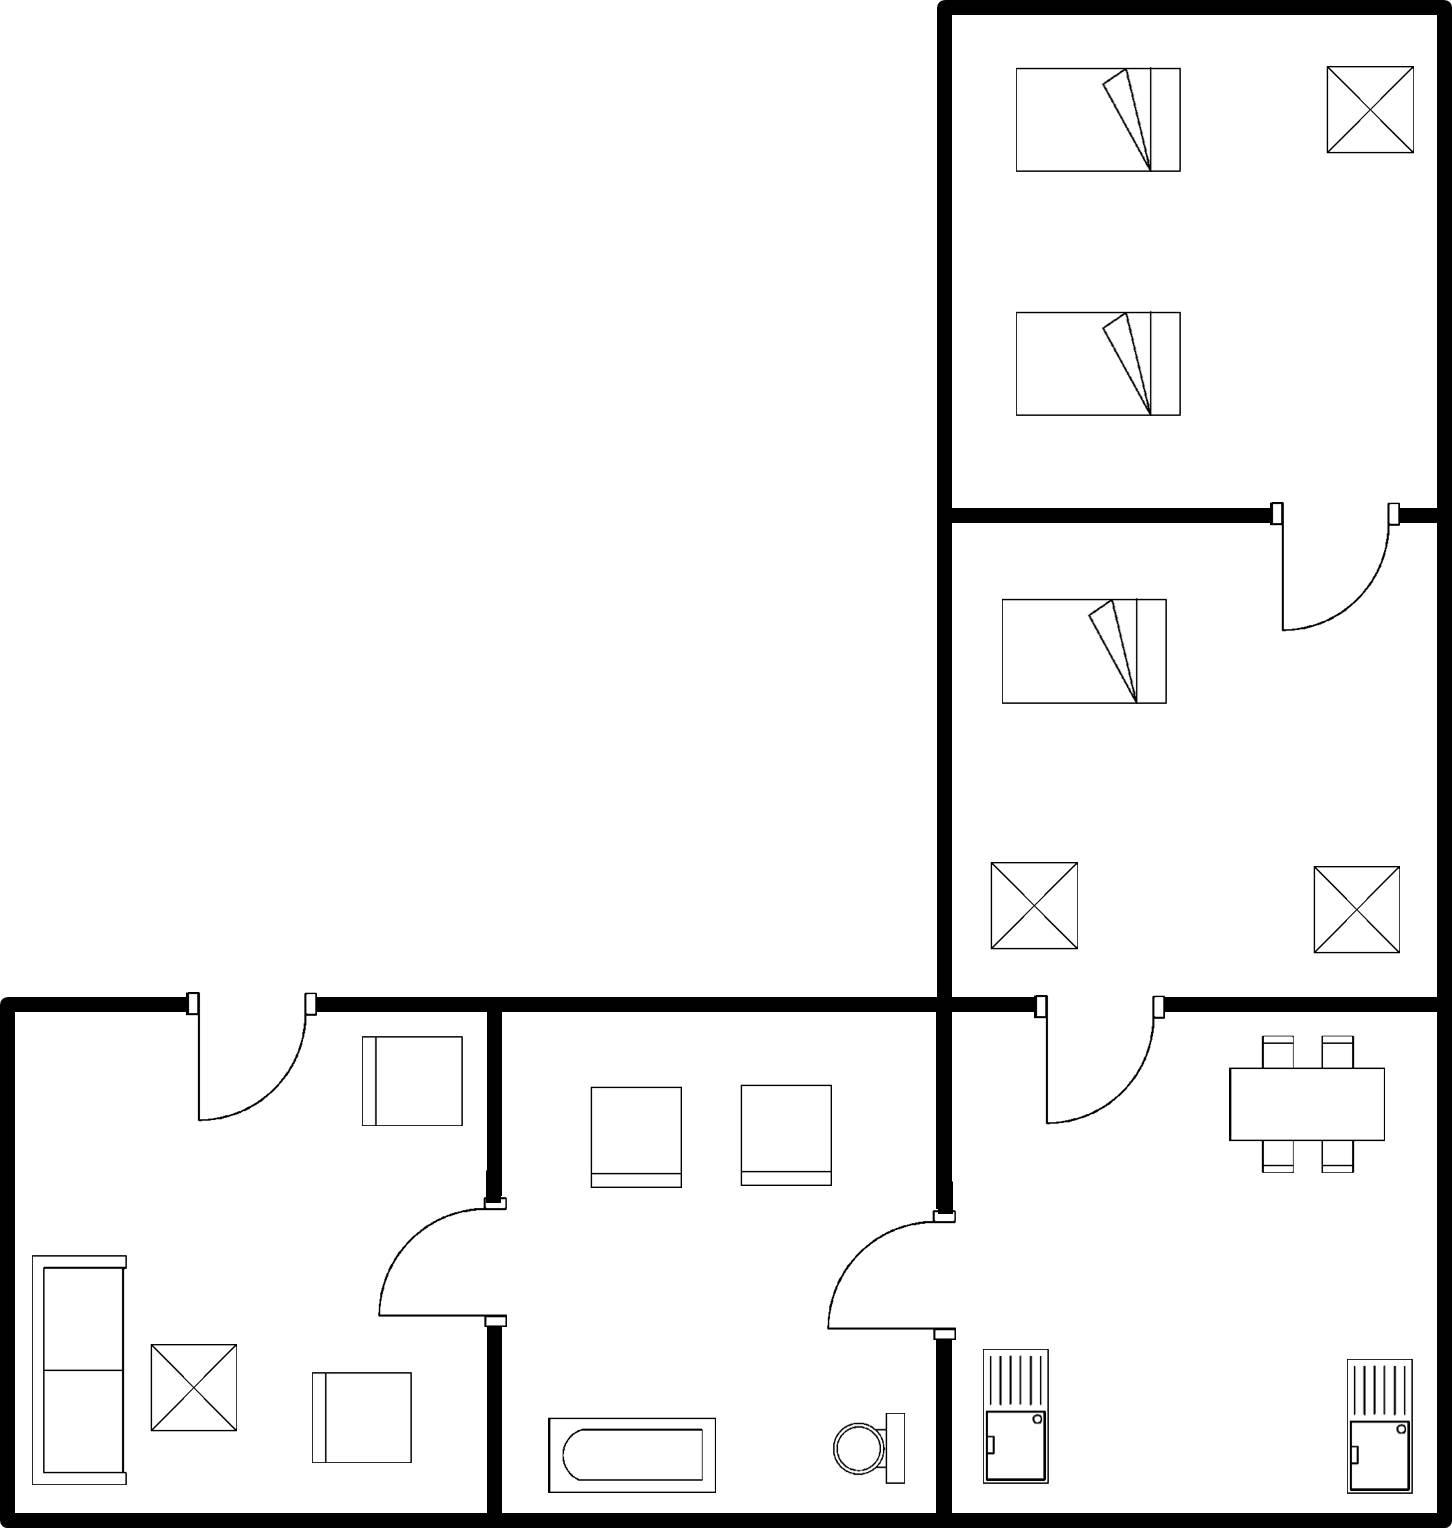bed: (1004, 296, 1191, 428), (989, 585, 1176, 718), (1004, 59, 1191, 186)
dining_table: (1215, 1025, 1403, 1183)
sink: (973, 1340, 1058, 1497), (1336, 1344, 1421, 1499)
sofa: (22, 1243, 136, 1493)
toilet: (822, 1398, 921, 1493)
tub: (529, 1404, 727, 1502)
